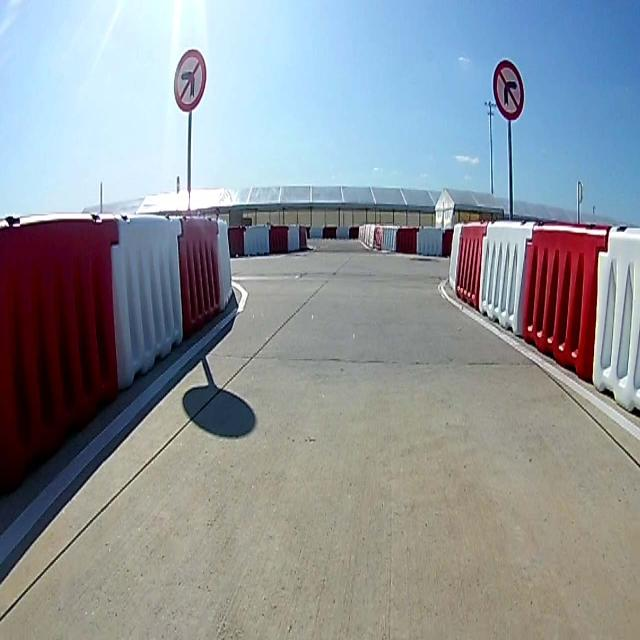sagadonulmez: (492, 57, 524, 123)
soladonulmez: (174, 50, 204, 111)
